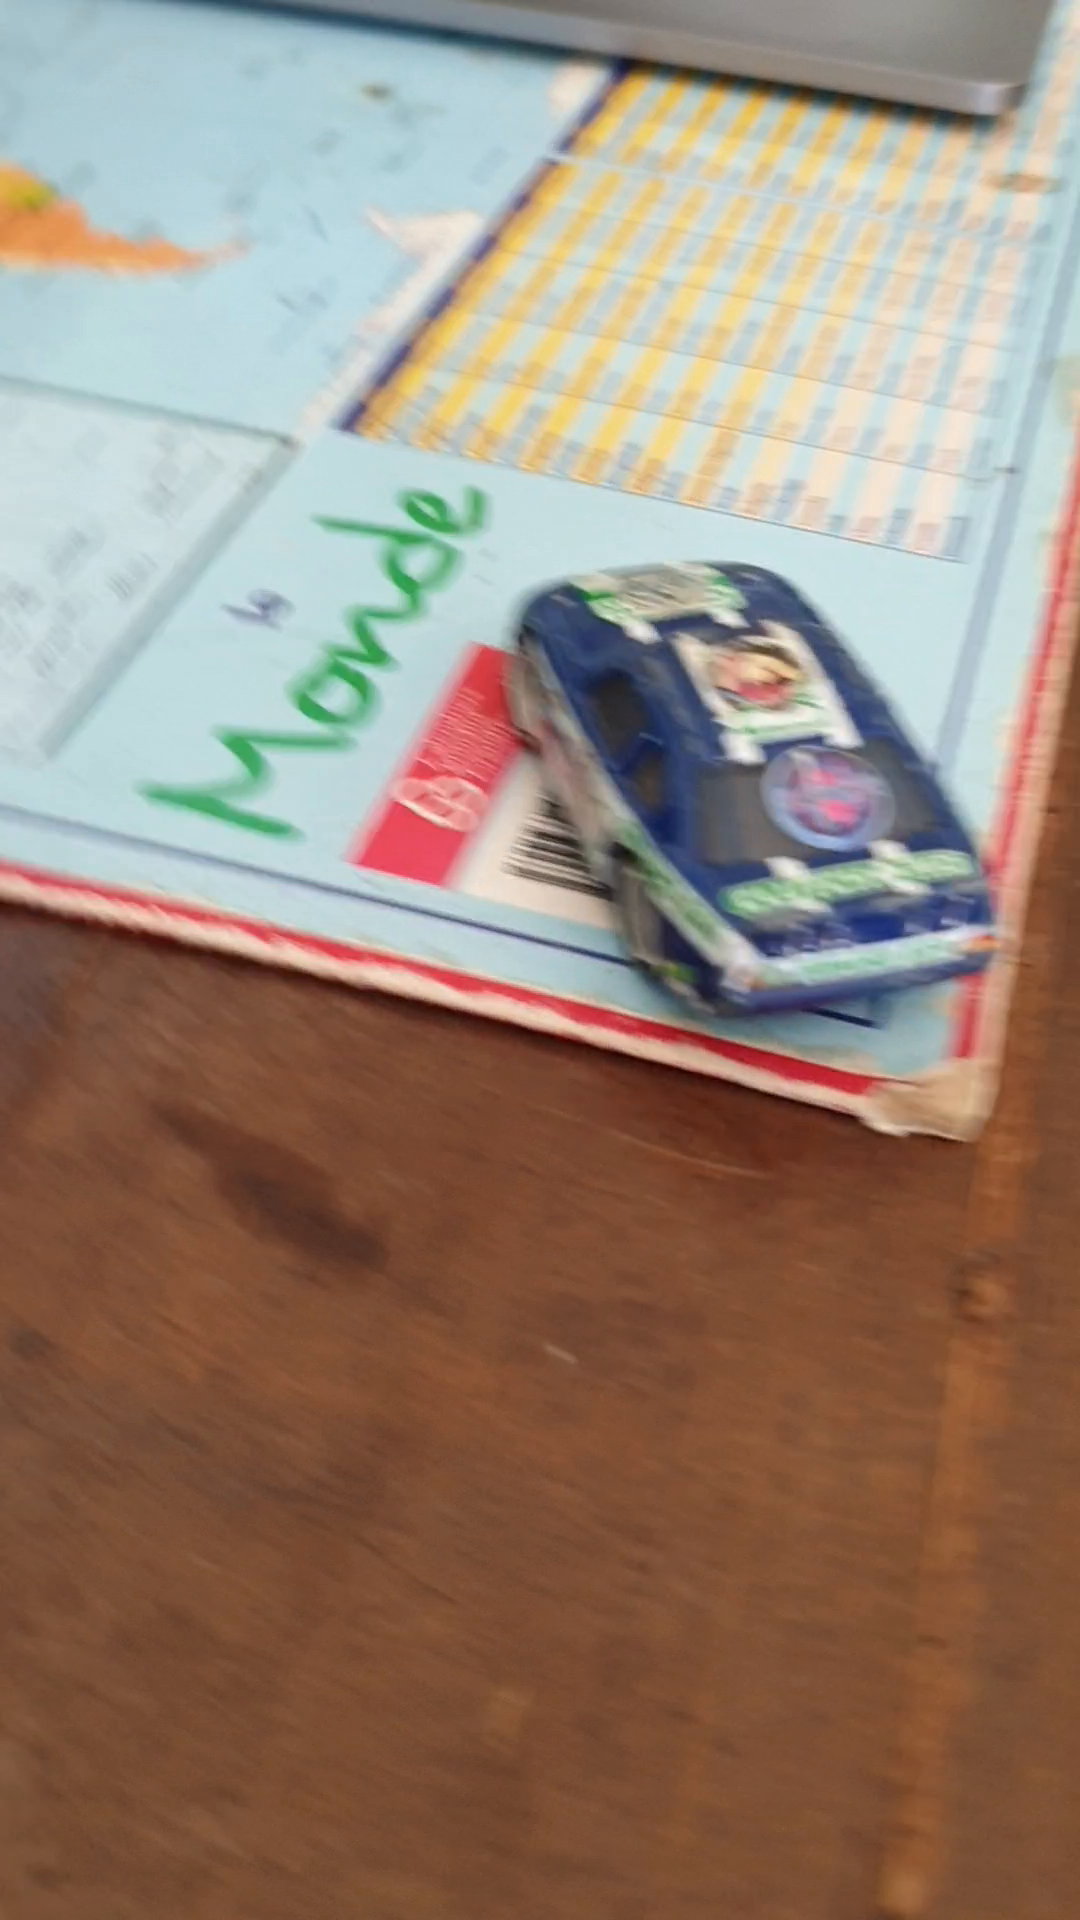cars: (504, 551, 1004, 1009)
